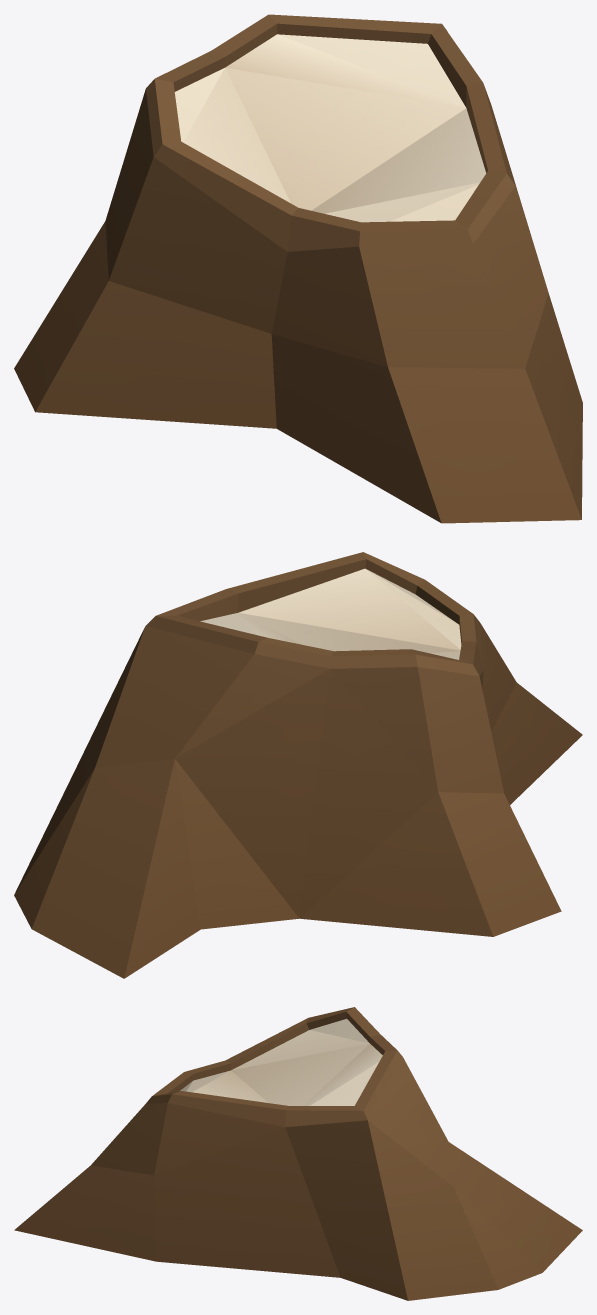
Rendered from Stump_Beech_01.fbx.
The picture shows the model from 3 angles, top to bottom: view 1: azimuth 30°, elevation 25°; view 2: azimuth 150°, elevation 25°; view 3: azimuth 270°, elevation 25°; orthographic projection. The views are drawn at different scales.
Visible parts, largest first — view 1: Stump_Beech; view 2: Stump_Beech; view 3: Stump_Beech.
Part boxes in pixels (box(x1,y1,x2,y2)): Stump_Beech: box(14, 14, 582, 523); Stump_Beech: box(14, 552, 582, 978); Stump_Beech: box(14, 1007, 582, 1300).
Size of the model in its own units: 1.39 by 0.7106 by 2.06.
